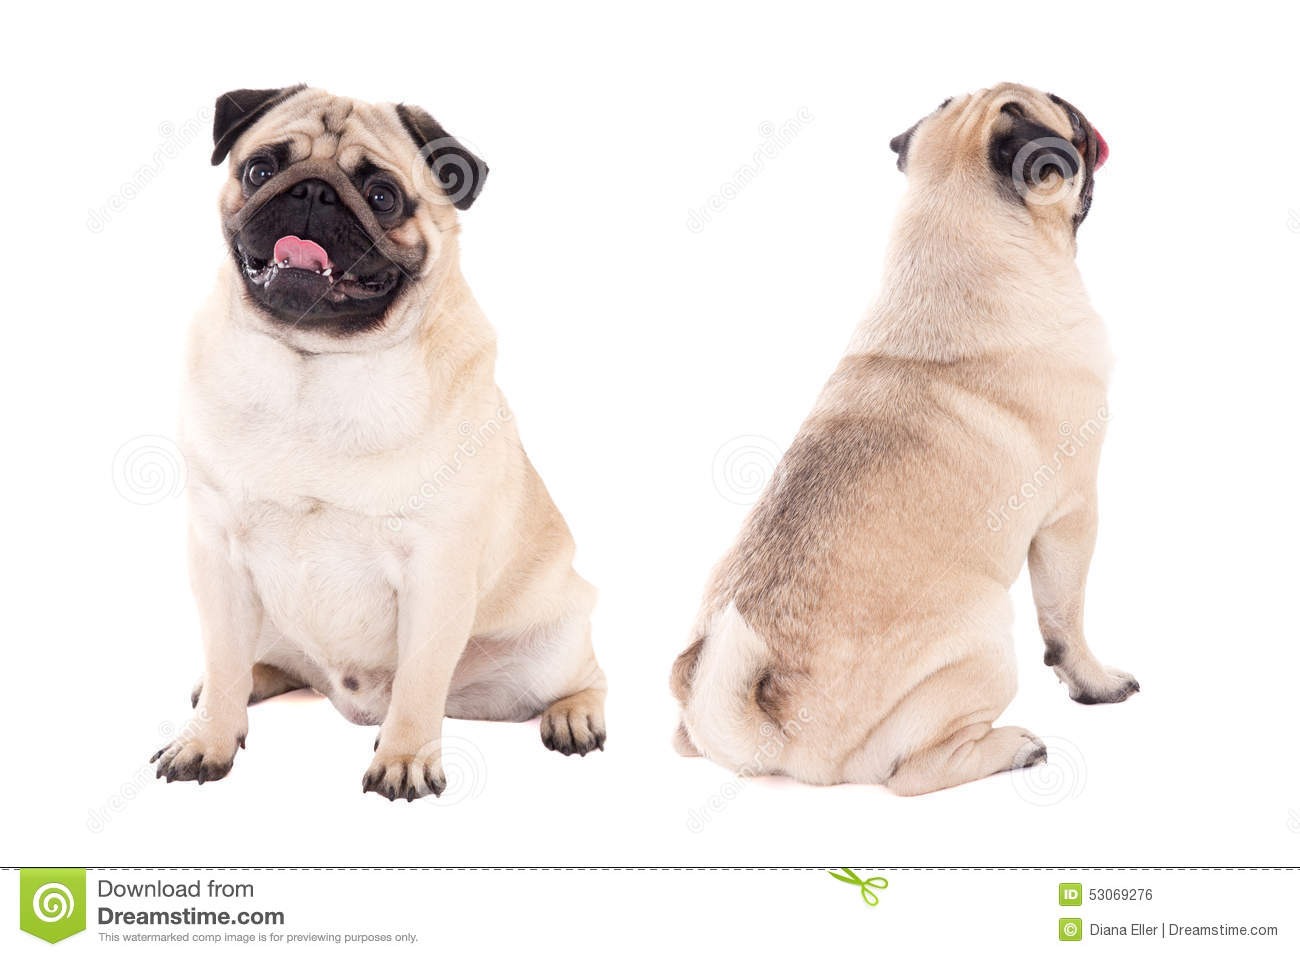dog: (667, 76, 1163, 784), (149, 90, 629, 805)
